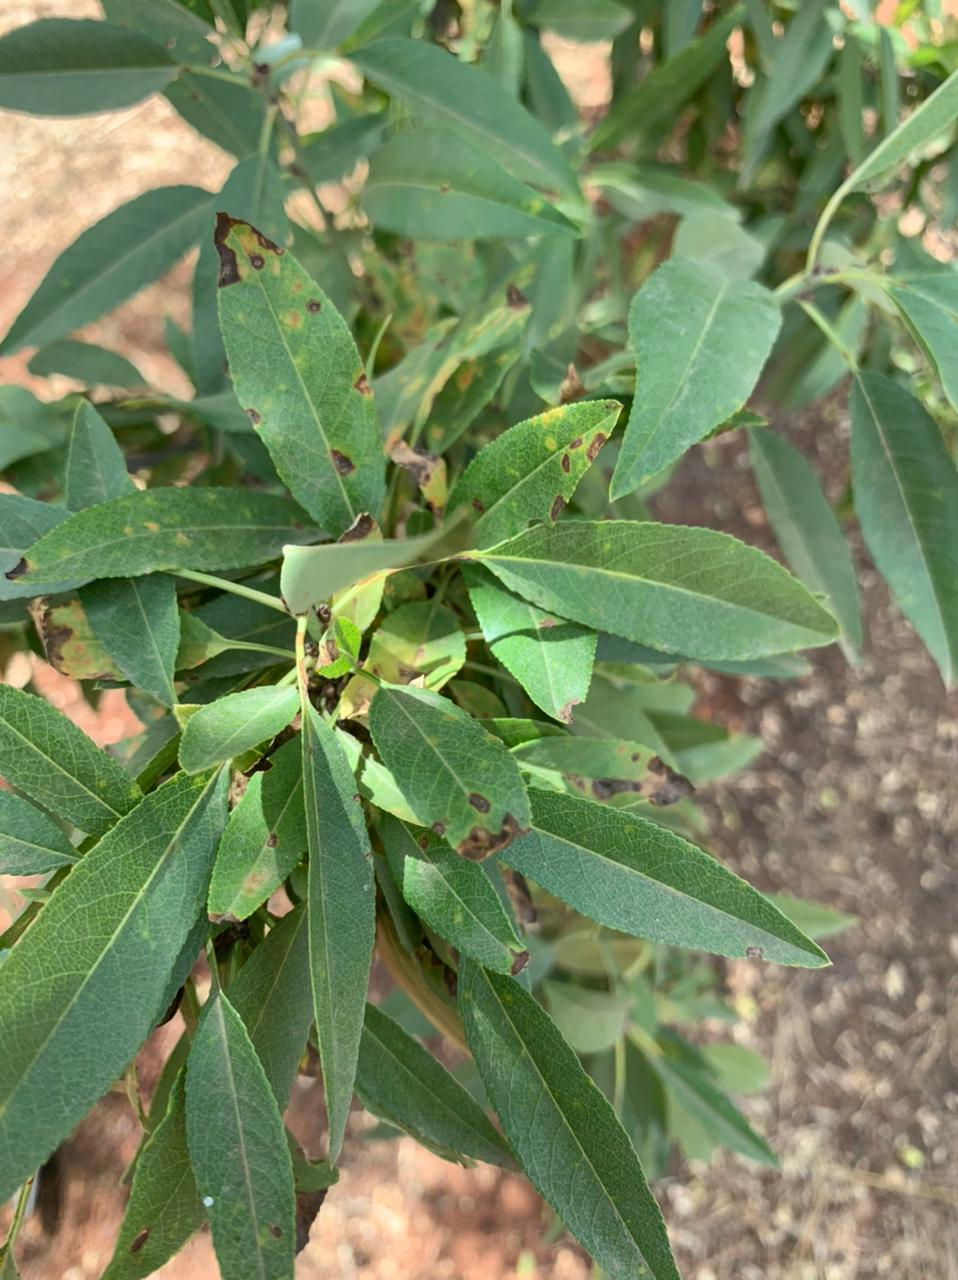coryneum: (212, 207, 386, 533), (367, 681, 533, 864), (445, 398, 623, 550)
